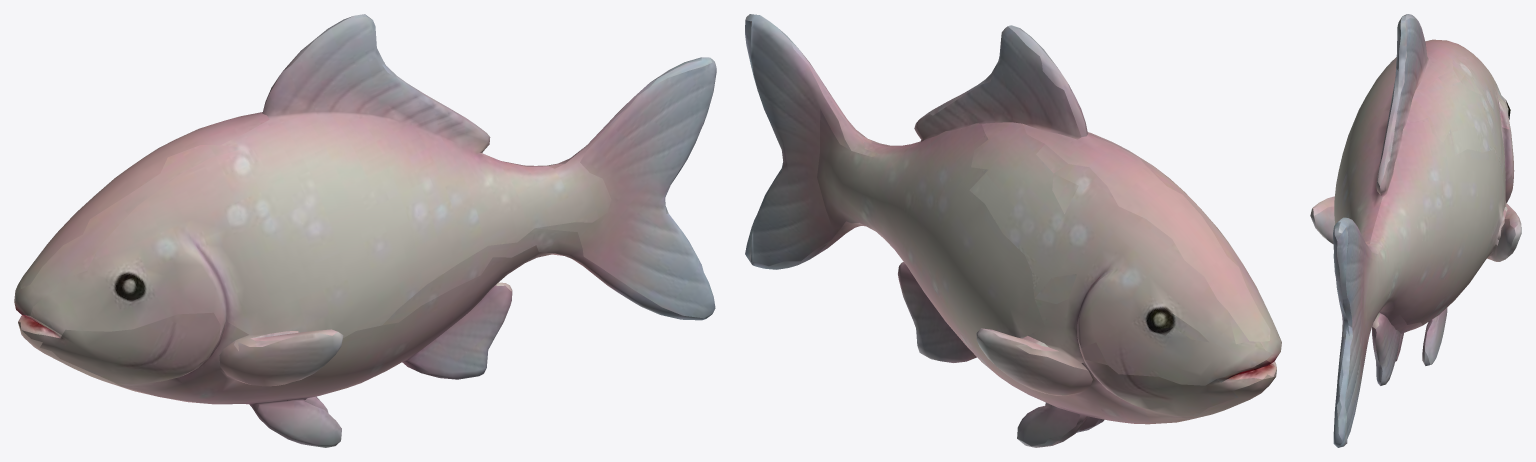
Rendered from cave_fish.glb.
3 views of the same model, side by side, from view 1: azimuth 30°, elevation 25°; view 2: azimuth 150°, elevation 25°; view 3: azimuth 270°, elevation 25° (orthographic). The views are drawn at different scales.
Parts seen in each view (by area): view 1: cave_fish; view 2: cave_fish; view 3: cave_fish.
Boxes of the visible parts, box(x1,y1,x2,y2) form: cave_fish: box(14, 14, 716, 447); cave_fish: box(745, 14, 1281, 447); cave_fish: box(1310, 14, 1521, 447).
Bounding box in the file's own units: 1 × 0.6389 × 0.341.
1 material, 1 textured.
